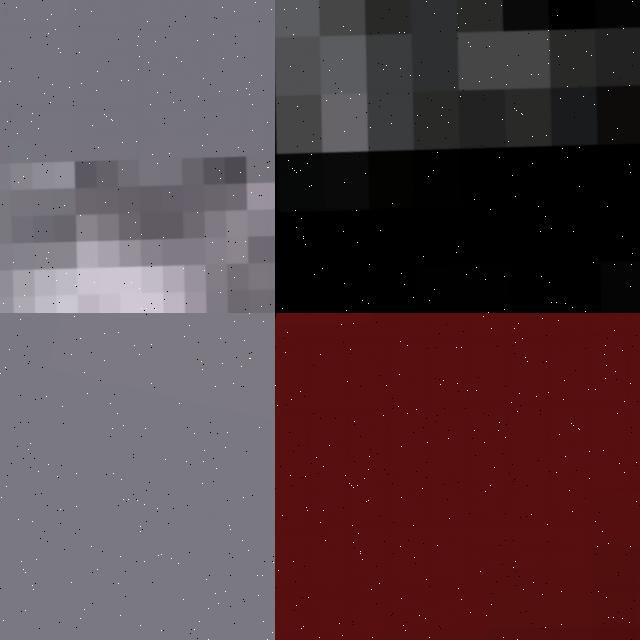0: (0, 0, 275, 313)
drone: (275, 313, 640, 640), (275, 0, 640, 313)
